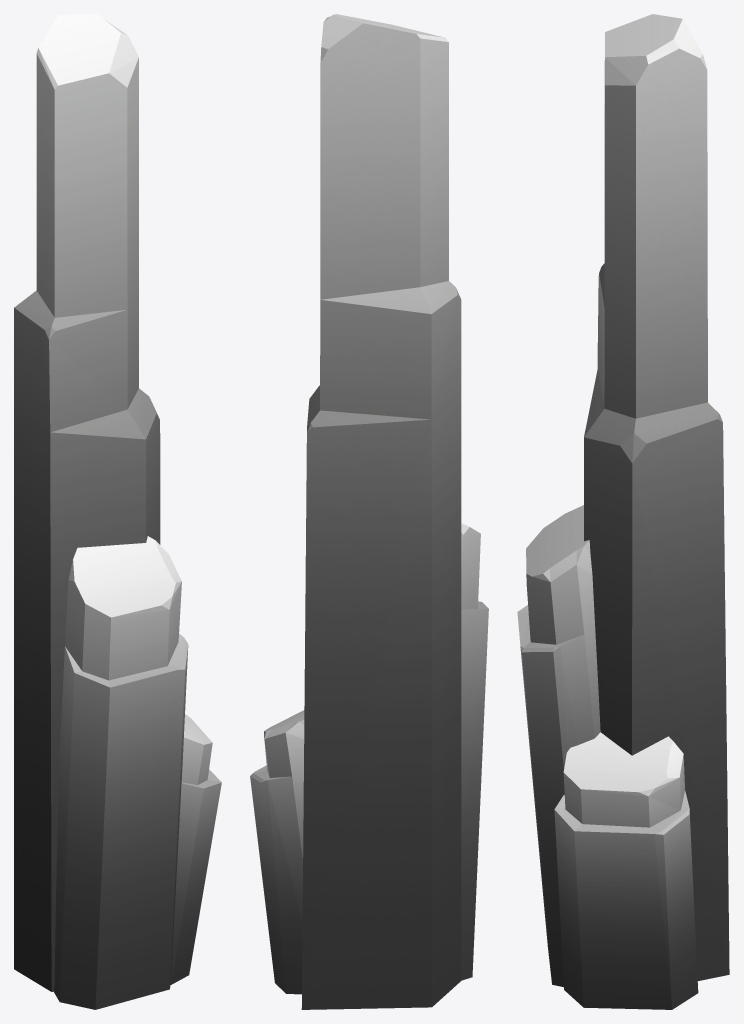
The model's file is CrystalCubeCluster_E.fbx.
The picture shows the model from 3 angles, left to right: view 1: azimuth 30°, elevation 25°; view 2: azimuth 150°, elevation 25°; view 3: azimuth 270°, elevation 25°; orthographic projection. The views are drawn at different scales.
Visible parts, largest first — view 1: CrystalCubeCluster_E; view 2: CrystalCubeCluster_E; view 3: CrystalCubeCluster_E.
Boxes of the visible parts, <box> form: CrystalCubeCluster_E: <box>14,14,221,1009</box>; CrystalCubeCluster_E: <box>250,14,488,1009</box>; CrystalCubeCluster_E: <box>517,14,729,1009</box>.
Bounding box in the file's own units: 88.38 × 461 × 93.41.
1 material, 1 textured.
